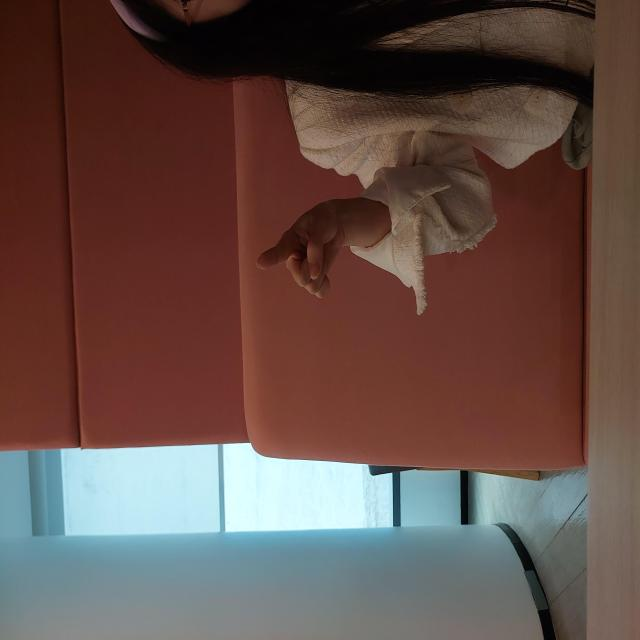Z: (343, 256, 440, 345)
